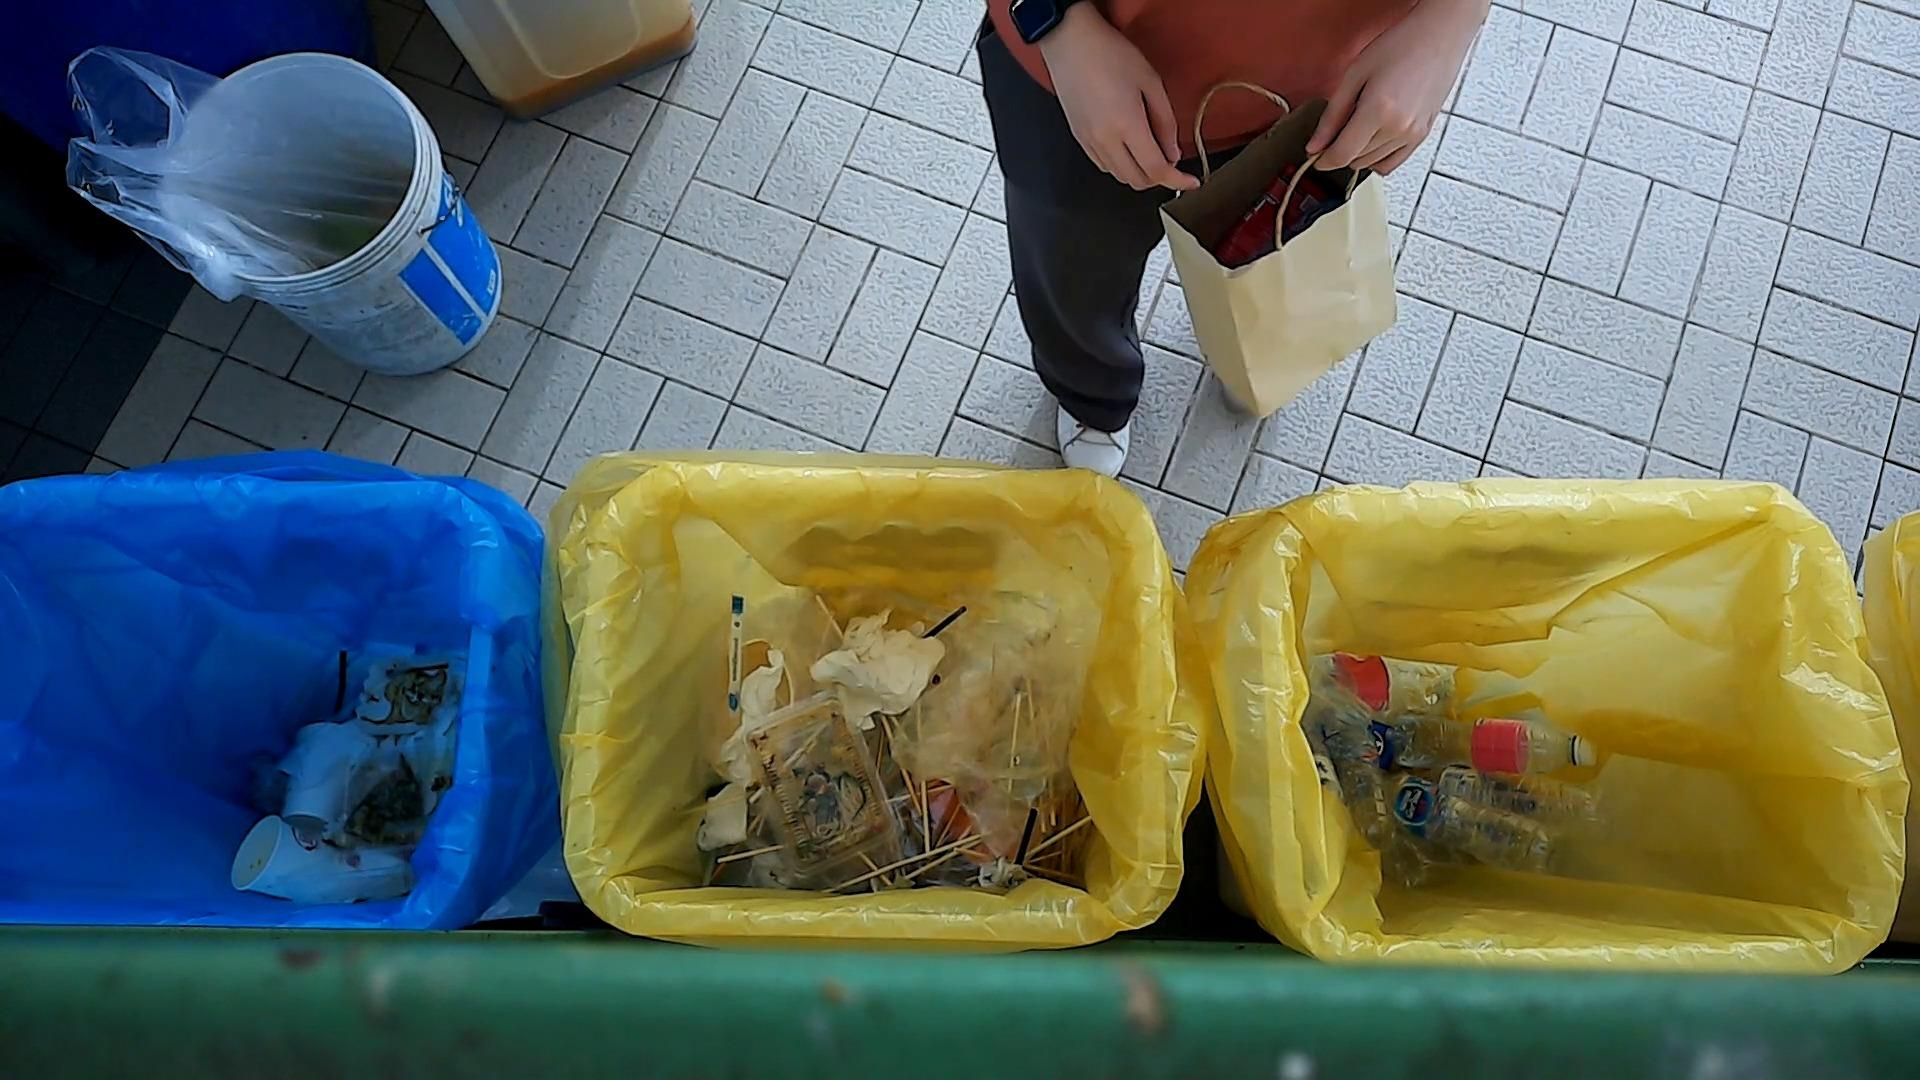dirty food container: (733, 683, 914, 882), (334, 740, 479, 855), (349, 654, 460, 738)
filled plastic bag: (889, 579, 1102, 865)
paper bag: (1158, 73, 1403, 434)
plastic bottle: (1382, 766, 1569, 880), (1435, 765, 1615, 849), (1387, 712, 1604, 778), (1321, 698, 1404, 844)
sticks: (820, 835, 981, 895), (952, 844, 1079, 881), (1025, 814, 1095, 857), (919, 778, 932, 855)
straw: (324, 649, 351, 723), (1015, 806, 1042, 869)
tissue paper: (824, 608, 949, 737), (713, 645, 789, 787), (694, 781, 753, 856), (804, 645, 873, 695), (975, 856, 1030, 894)
zero waste cup: (229, 811, 377, 907), (276, 720, 375, 841)
